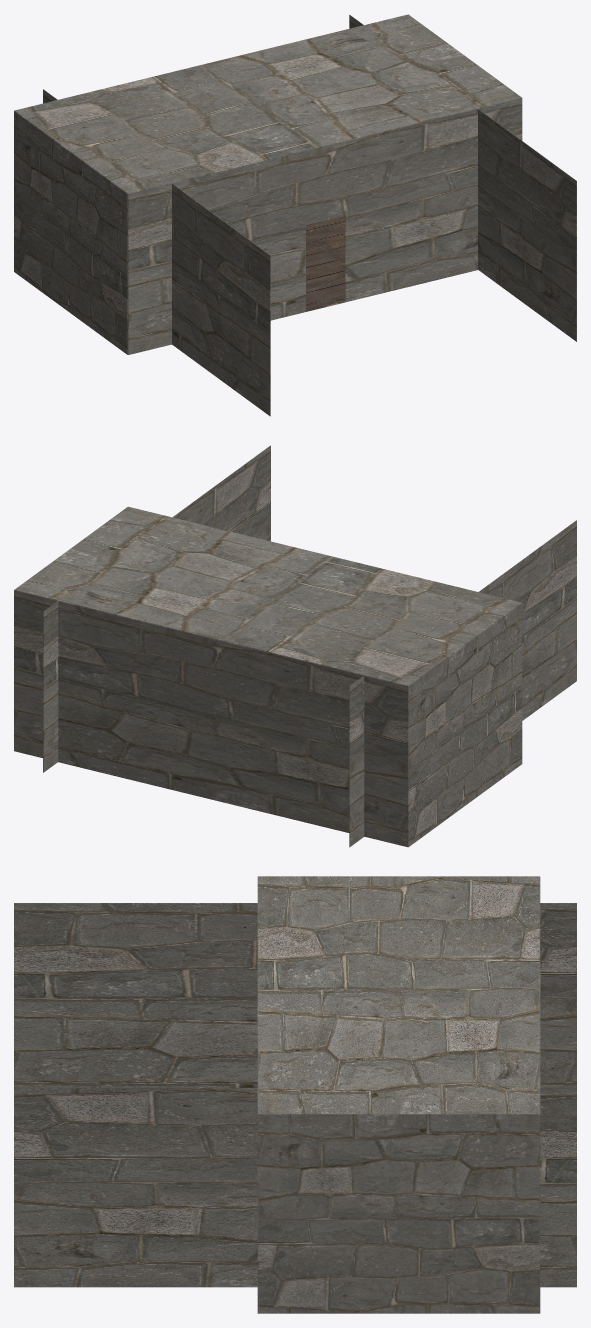
The model's file is stanzaColori2.fbx.
3 renders of one model, top to bottom at view 1: azimuth 30°, elevation 25°; view 2: azimuth 150°, elevation 25°; view 3: azimuth 270°, elevation 25°, orthographic. The views are drawn at different scales.
Parts seen in each view (by area): view 1: object_184, Tetto ufficio, object_184.001, object_184.002, object_195; view 2: object_184, Tetto ufficio, object_184.002, object_184.001; view 3: Tetto ufficio, object_184, object_184.001, object_184.002.
Part boxes in pixels (x1=…): object_184: x1=14, y1=98, x2=522, y2=354; Tetto ufficio: x1=14, y1=14, x2=521, y2=193; object_184.001: x1=349, y1=14, x2=576, y2=341; object_184.002: x1=43, y1=89, x2=270, y2=416; object_195: x1=271, y1=216, x2=477, y2=320; object_184: x1=14, y1=590, x2=522, y2=847; Tetto ufficio: x1=14, y1=506, x2=521, y2=686; object_184.002: x1=349, y1=520, x2=576, y2=847; object_184.001: x1=43, y1=445, x2=270, y2=772; Tetto ufficio: x1=258, y1=876, x2=539, y2=1114; object_184: x1=257, y1=877, x2=540, y2=1313; object_184.001: x1=14, y1=1088, x2=576, y2=1287; object_184.002: x1=14, y1=903, x2=576, y2=1087.
Bounding box in the file's own units: 1002 × 393 × 1000.
